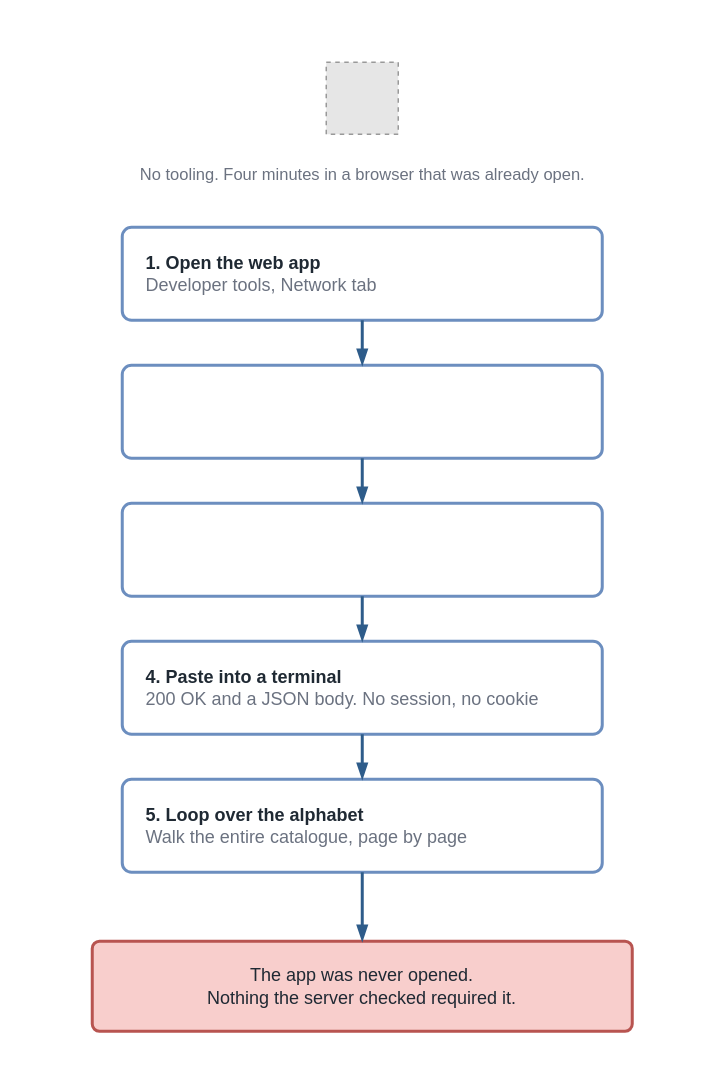
Image size: 723x1092. Some labels were removed from this diagram. Grey dashed boxes stand in for pictures. Each missing label, with the centre of its shape:
2. Search for anything Find the /api/catalog/search request: [361,411]
3. Right-click, Copy as cURL Every header comes along, X-Client-App too: [361,549]
